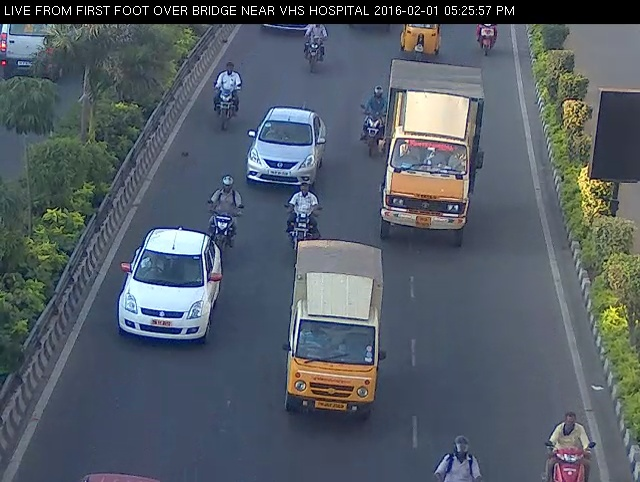Bus: (375, 53, 488, 261)
Car: (279, 233, 390, 431), (110, 224, 229, 355), (237, 98, 335, 196), (394, 14, 447, 59)
Person: (529, 407, 606, 482), (279, 178, 328, 264), (204, 169, 245, 260), (204, 61, 246, 133), (433, 428, 485, 482), (360, 81, 394, 154), (293, 17, 334, 75), (471, 14, 508, 55)
